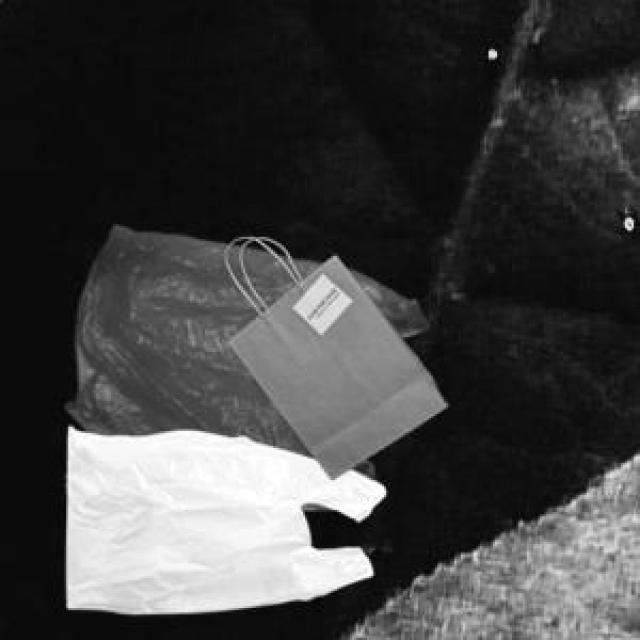paper: (224, 252, 444, 476)
